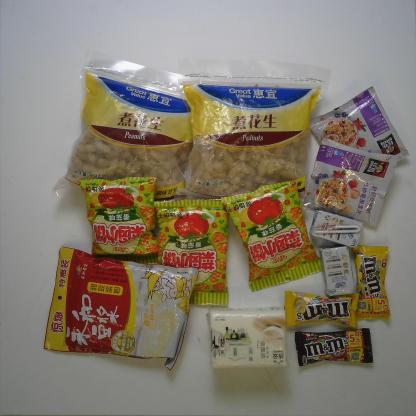Chocolate: (353, 244, 394, 323), (294, 328, 374, 367), (284, 291, 360, 331)
Dried Food: (53, 58, 220, 226), (174, 61, 331, 215)
Instant Drink: (43, 246, 199, 370), (310, 85, 408, 180), (302, 138, 399, 228)
Milk: (310, 211, 364, 249), (322, 245, 356, 297)
Puffed Food: (220, 179, 325, 292), (152, 199, 230, 307), (79, 176, 160, 265)
Tissue: (207, 305, 289, 371)
